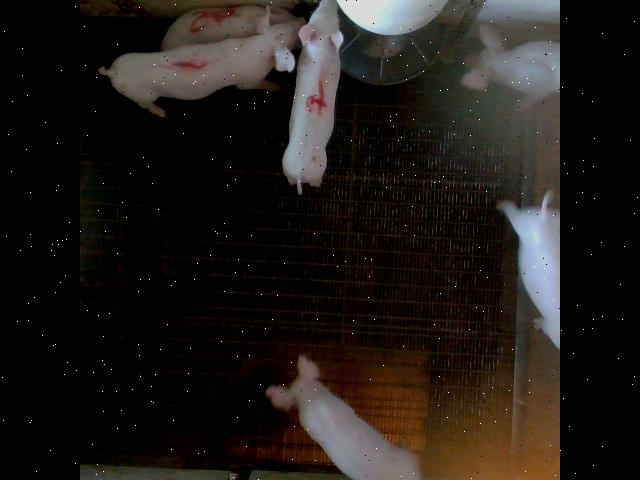pig-1: (99, 21, 299, 116)
pig-4: (282, 0, 343, 192)
pig-5: (161, 5, 297, 48)
